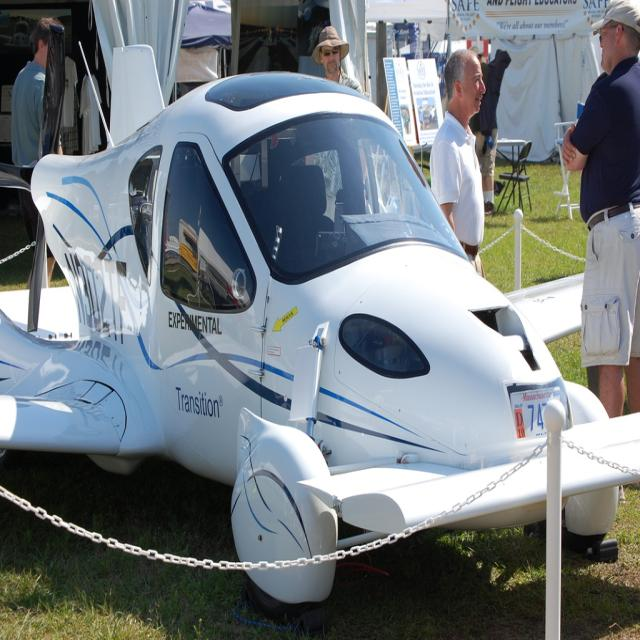car: (0, 39, 639, 630)
